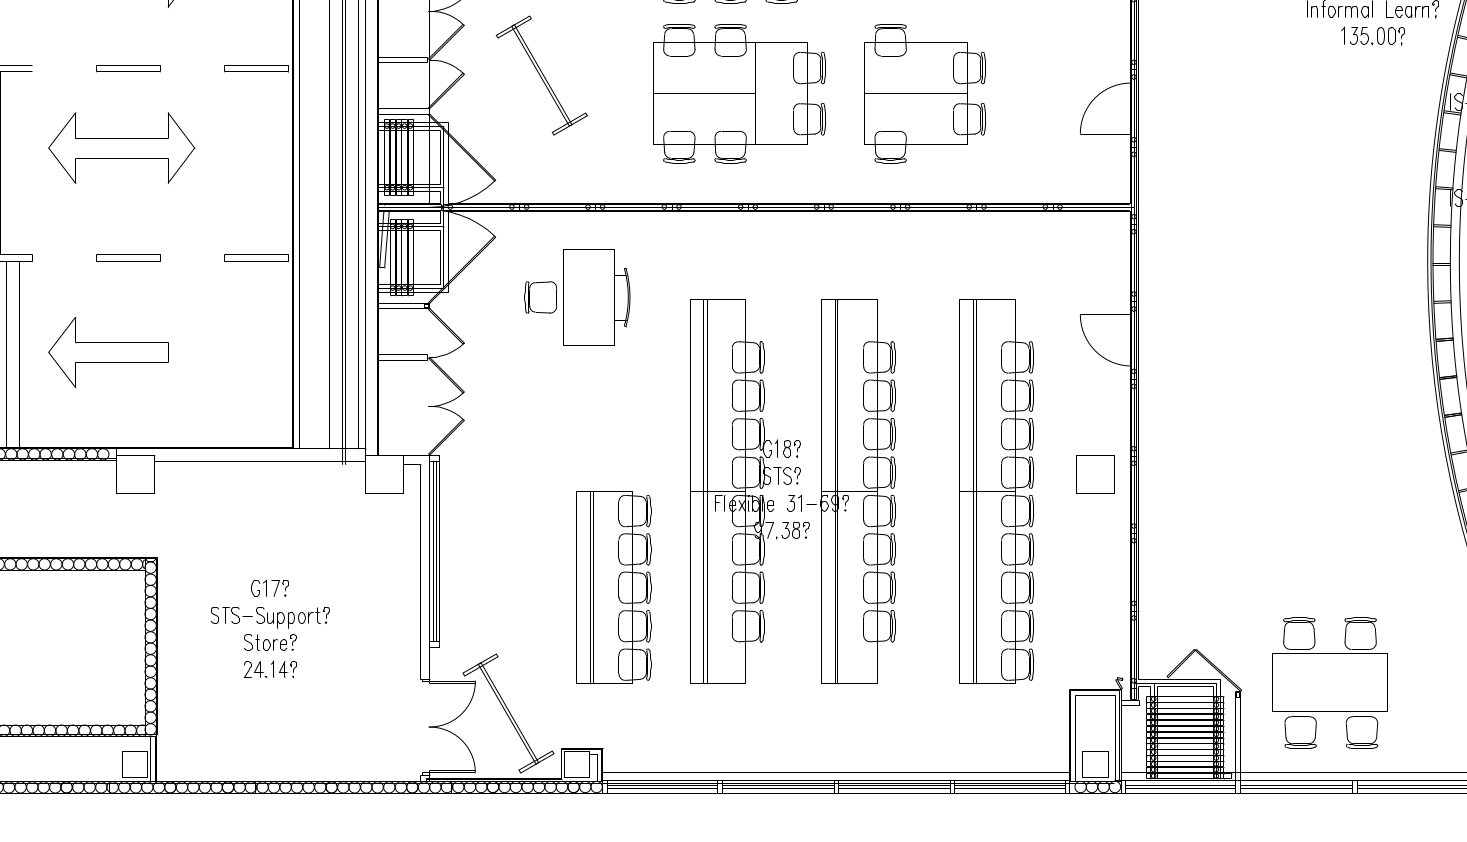door: (420, 358, 476, 457), (426, 677, 482, 776), (1076, 79, 1129, 148), (1080, 307, 1133, 376), (425, 307, 468, 362)
